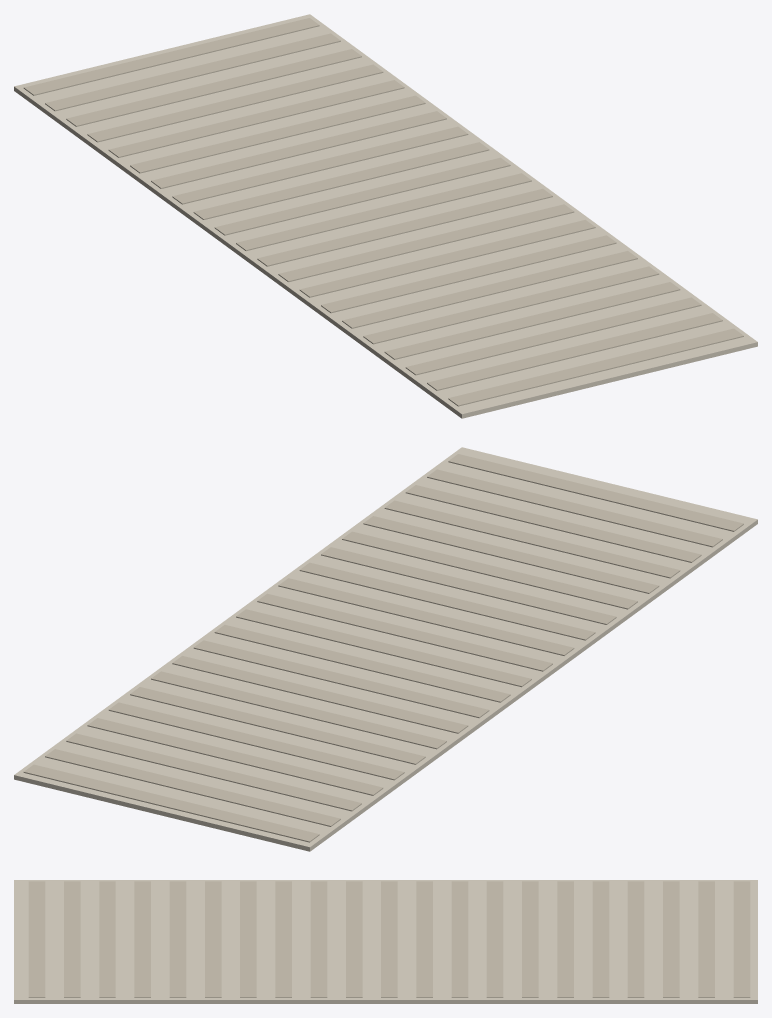
The picture shows the model from 3 angles, top to bottom: view 1: azimuth 30°, elevation 25°; view 2: azimuth 150°, elevation 25°; view 3: azimuth 270°, elevation 25°; orthographic projection. The views are drawn at different scales.
Visible parts, largest first — view 1: root; view 2: root; view 3: root.
Part boxes in pixels (left/top/right/bottom): root: left=14, top=14, right=757, bottom=418; root: left=14, top=447, right=757, bottom=851; root: left=14, top=880, right=757, bottom=1003.
Size of what is drawn, in the model's own units: 0.8839 by 0.0158 by 2.32.
